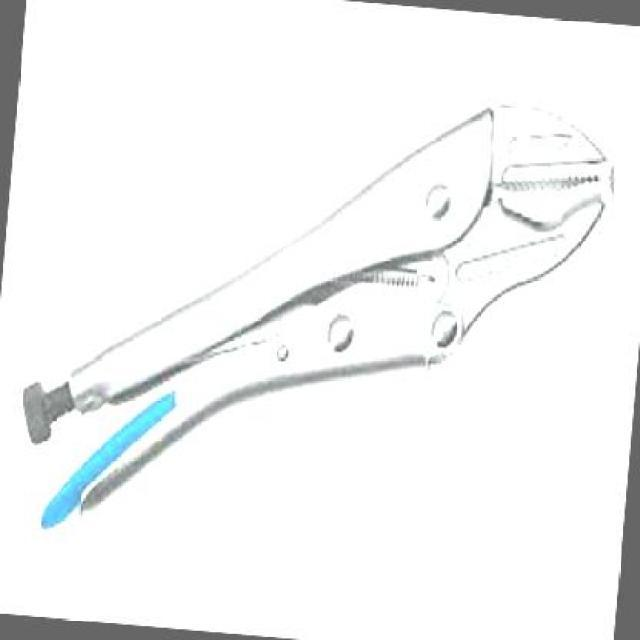pliers: (1, 47, 634, 606)
